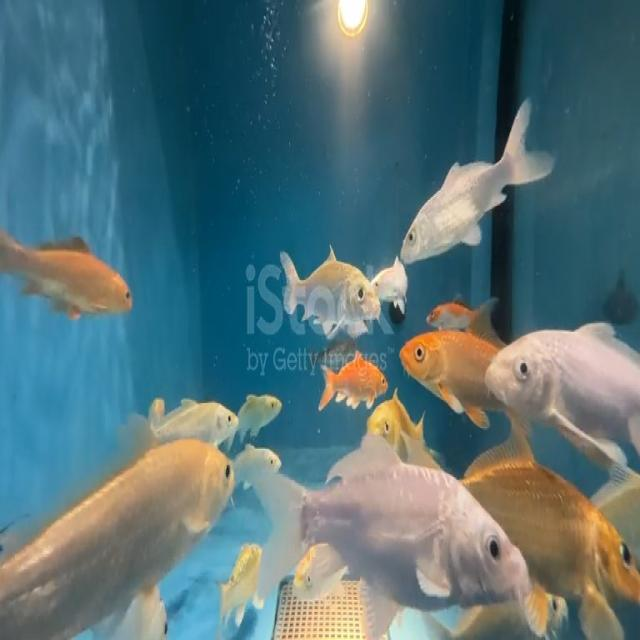fish: (4, 441, 250, 635), (255, 456, 516, 620), (484, 433, 640, 606), (401, 112, 549, 264), (485, 315, 640, 435), (3, 225, 138, 322), (272, 246, 384, 333), (401, 326, 485, 411), (145, 401, 244, 450), (317, 359, 388, 412), (231, 436, 286, 482), (242, 386, 290, 436)
